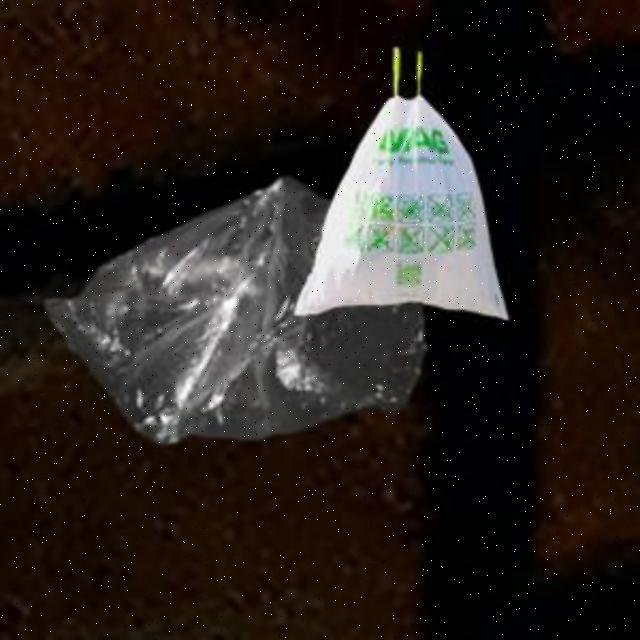plastic_bag: (296, 92, 510, 321)
